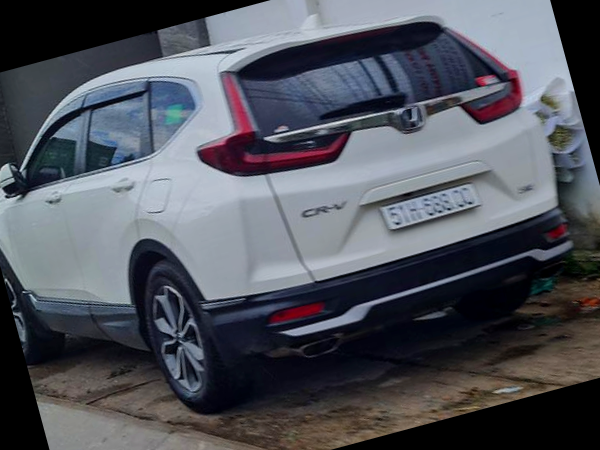lisence: (381, 181, 482, 230)
